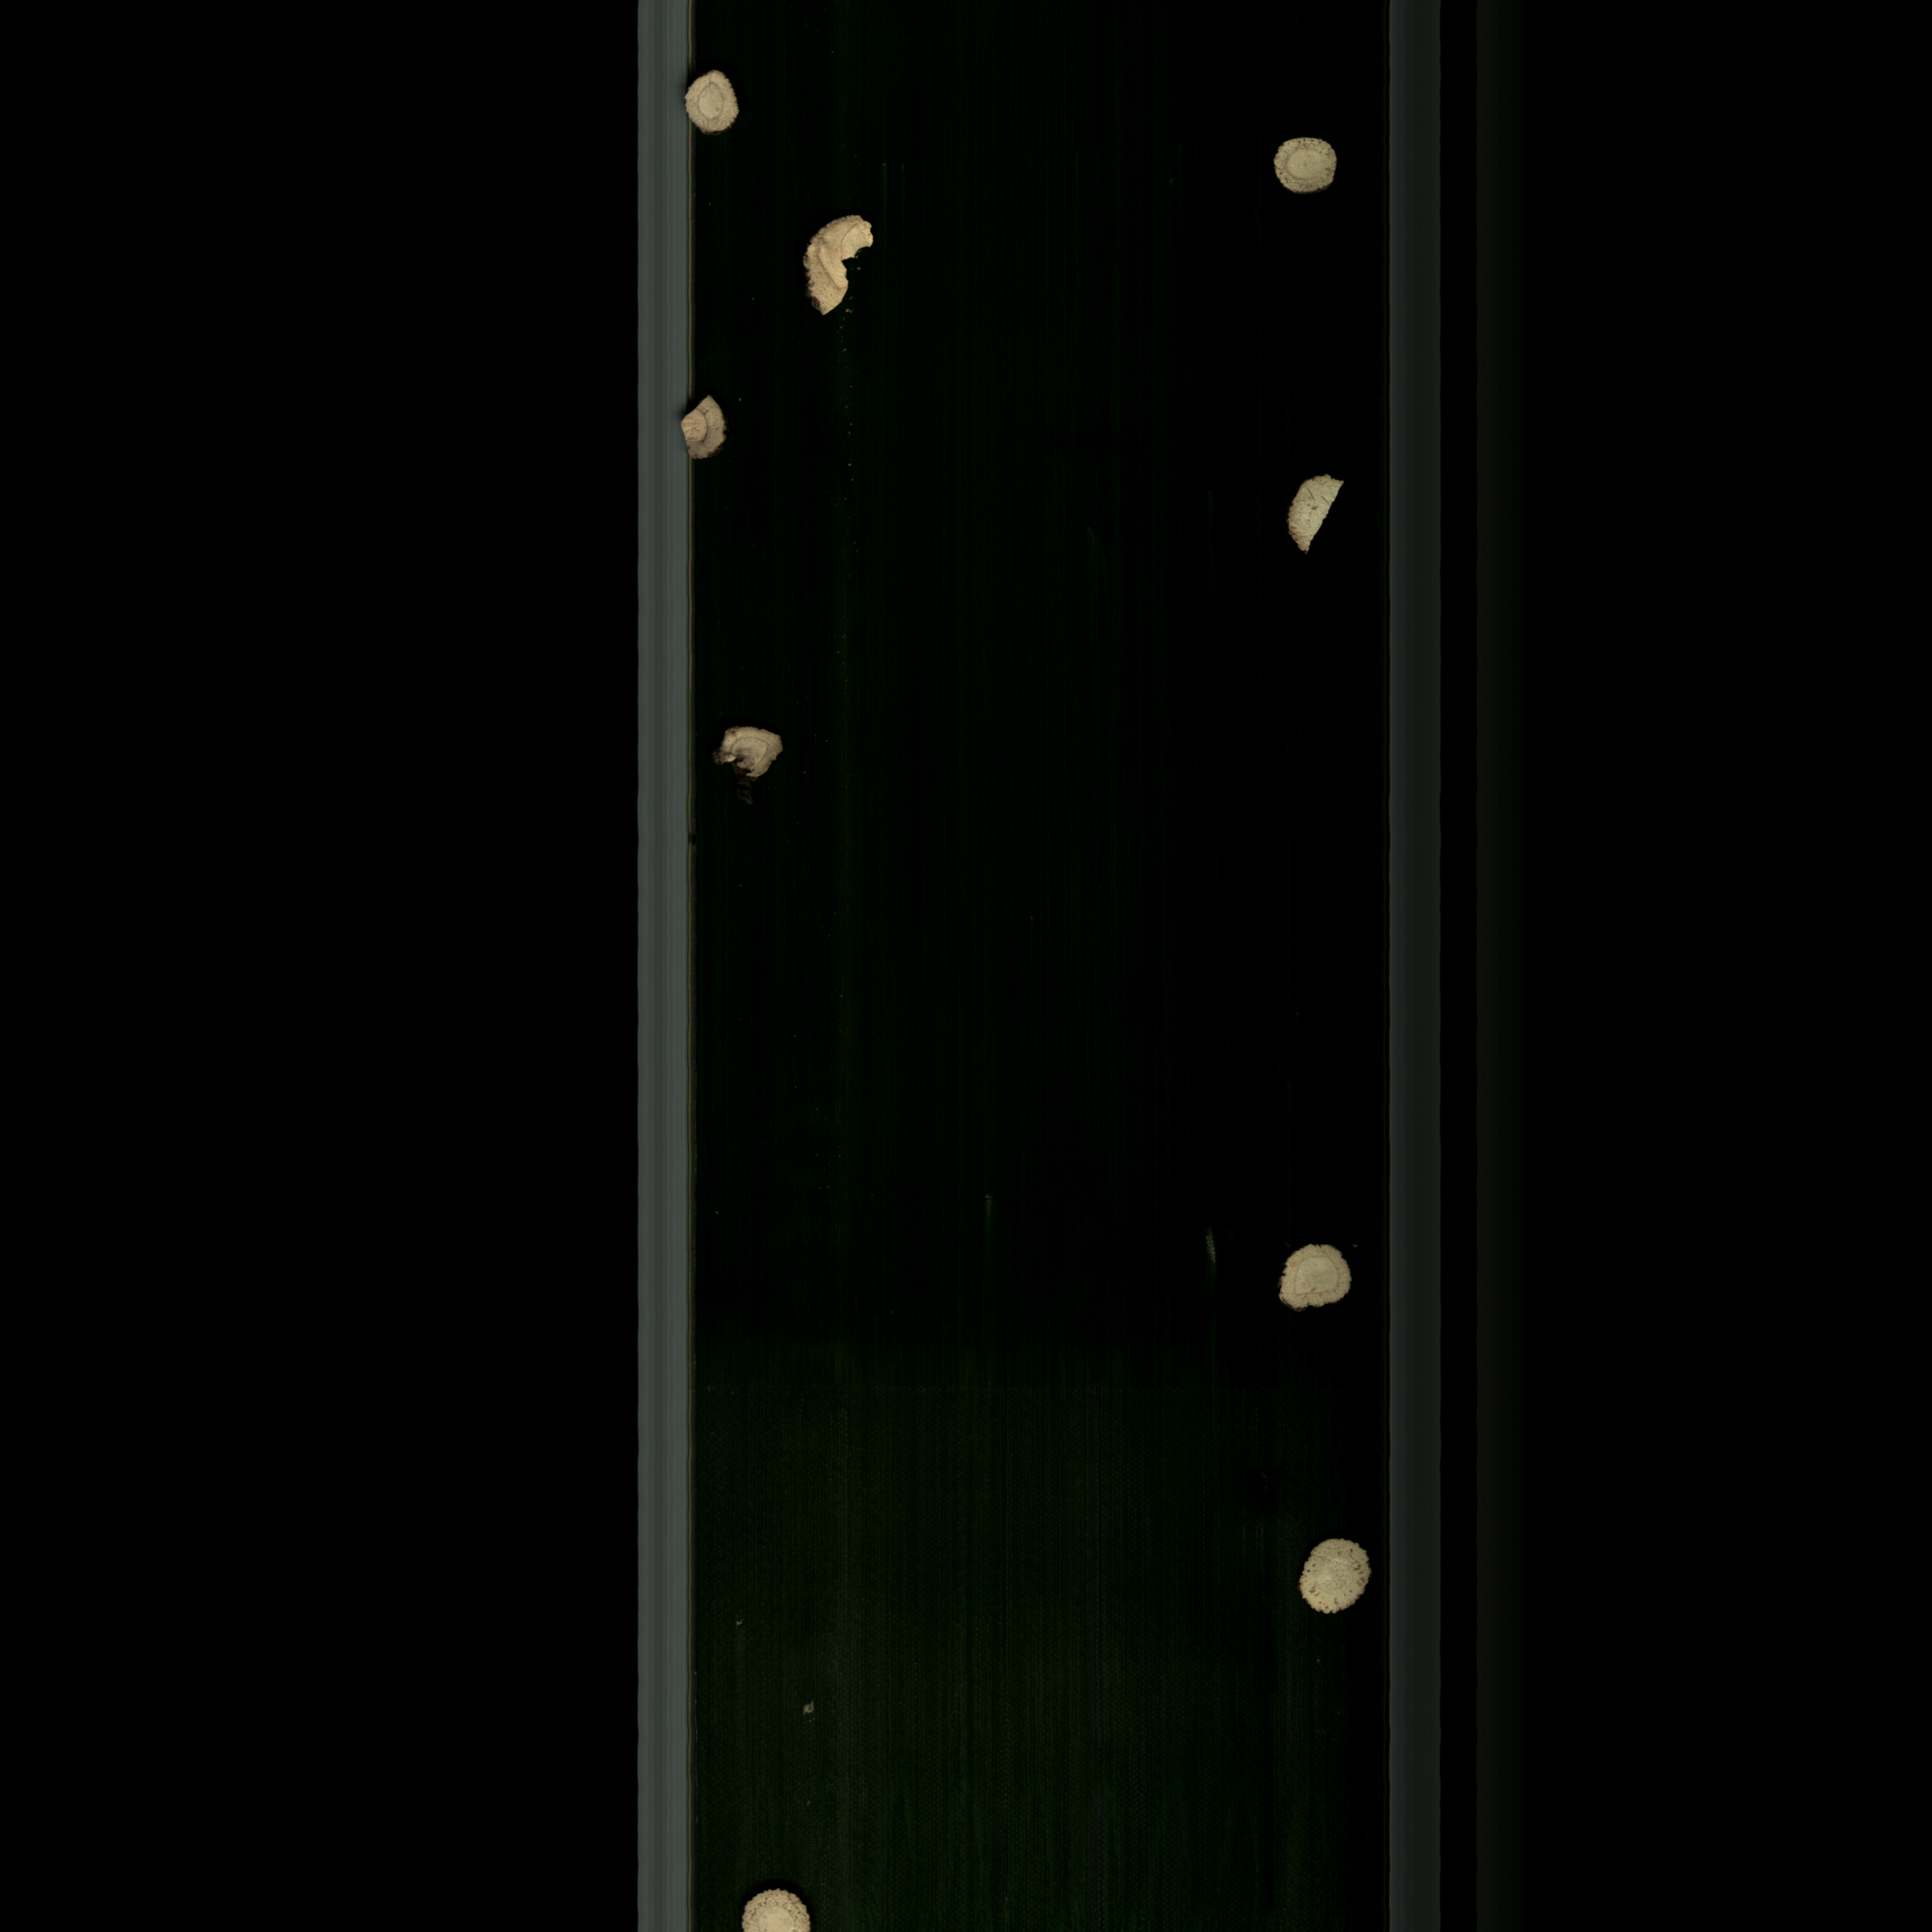debris: (1269, 465, 1357, 570)
distortion: (1269, 1238, 1359, 1323)
moldy: (794, 207, 892, 331), (708, 722, 809, 793), (669, 393, 736, 469)
